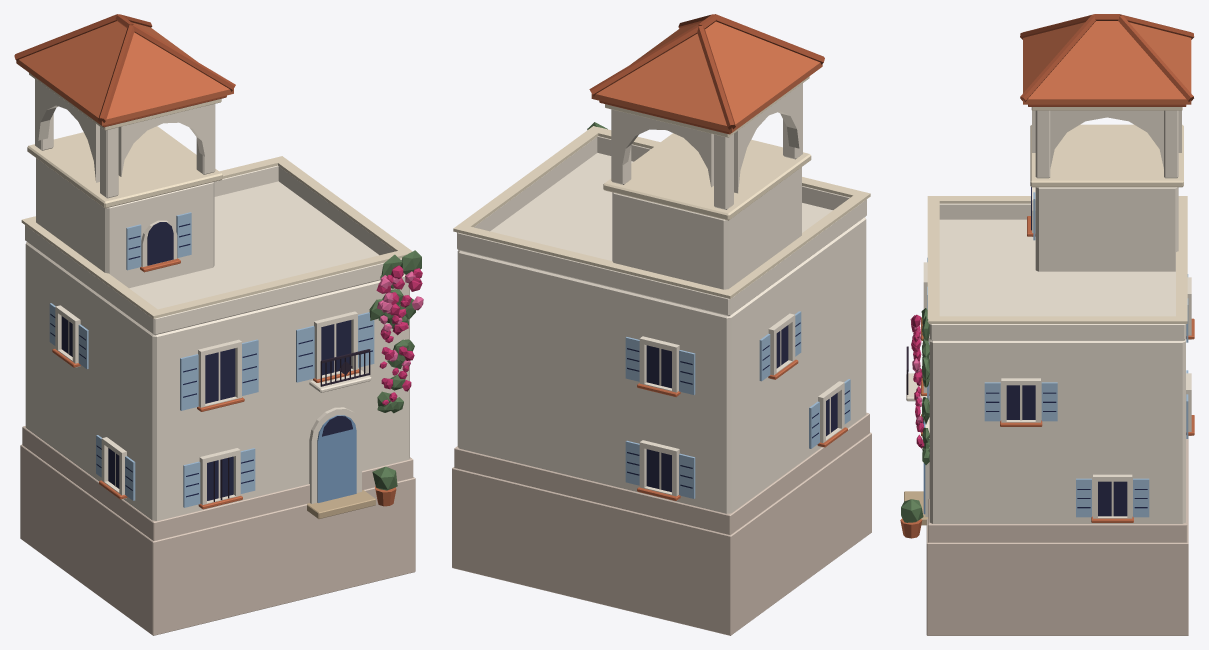
The model's file is med_tower_house.glb.
The picture shows the model from 3 angles, left to right: view 1: azimuth 30°, elevation 25°; view 2: azimuth 150°, elevation 25°; view 3: azimuth 270°, elevation 25°; orthographic projection. The views are drawn at different scales.
Visible parts, largest first — view 1: med_tower_house; view 2: med_tower_house; view 3: med_tower_house.
Boxes of the visible parts, left/top/right/bottom form: med_tower_house: left=14, top=14, right=423, bottom=635; med_tower_house: left=452, top=14, right=871, bottom=635; med_tower_house: left=900, top=14, right=1194, bottom=635.
Bounding box in the file's own units: 8.5 × 15.86 × 8.04.
